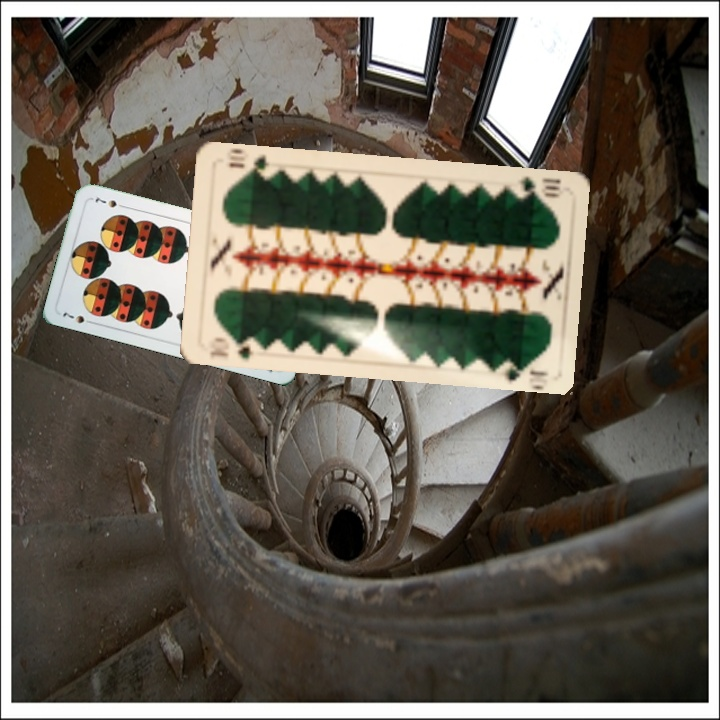G10: (506, 173, 563, 200), (206, 333, 254, 362)
S7: (58, 308, 97, 327)
